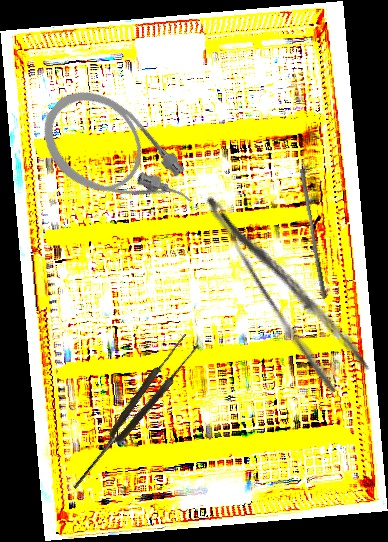Cannula: (24, 71, 212, 248)
Dressing Forceps: (201, 173, 371, 397)
Pusher: (294, 168, 333, 300)
Tissue Forceps: (64, 332, 202, 495)
